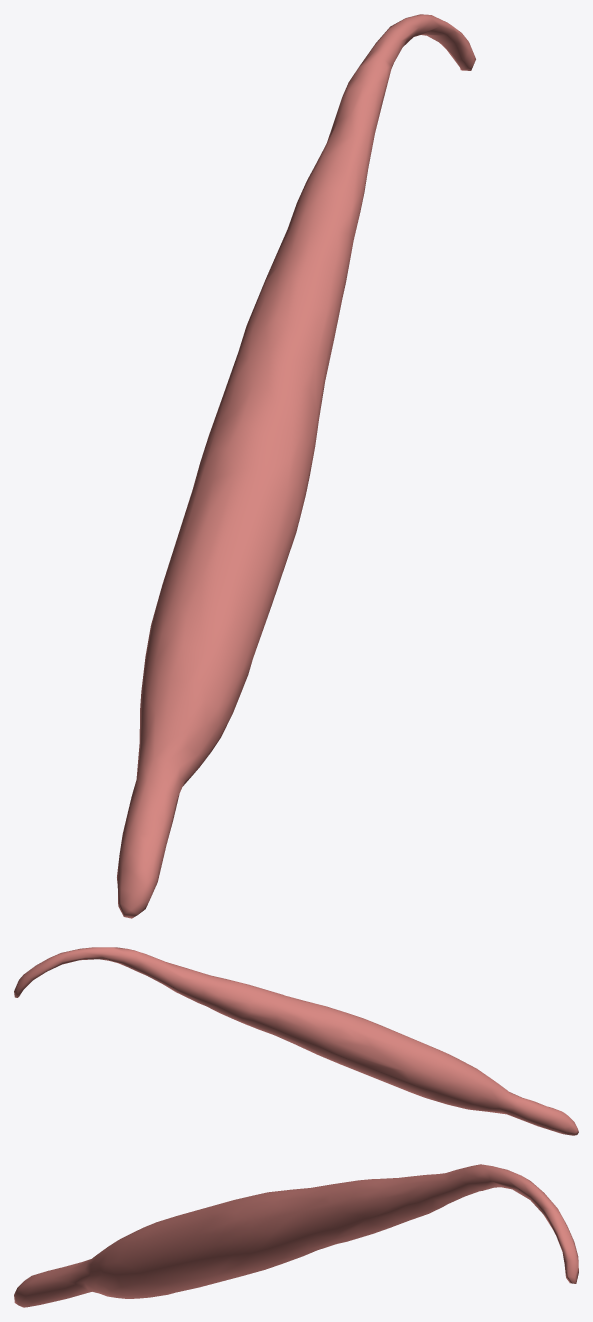
File: fma49032_mm1049.glb
3 renders of one model, top to bottom at view 1: azimuth 30°, elevation 25°; view 2: azimuth 150°, elevation 25°; view 3: azimuth 270°, elevation 25°, orthographic. The views are drawn at different scales.
Visible parts, largest first — view 1: FMA49032_MM1049; view 2: FMA49032_MM1049; view 3: FMA49032_MM1049.
Part boxes in pixels (bbox=[...]): FMA49032_MM1049: bbox=[117, 14, 475, 918]; FMA49032_MM1049: bbox=[14, 947, 578, 1135]; FMA49032_MM1049: bbox=[14, 1164, 578, 1307].
Size of the model in its own units: 0.0137 by 0.00853 by 0.0128.
